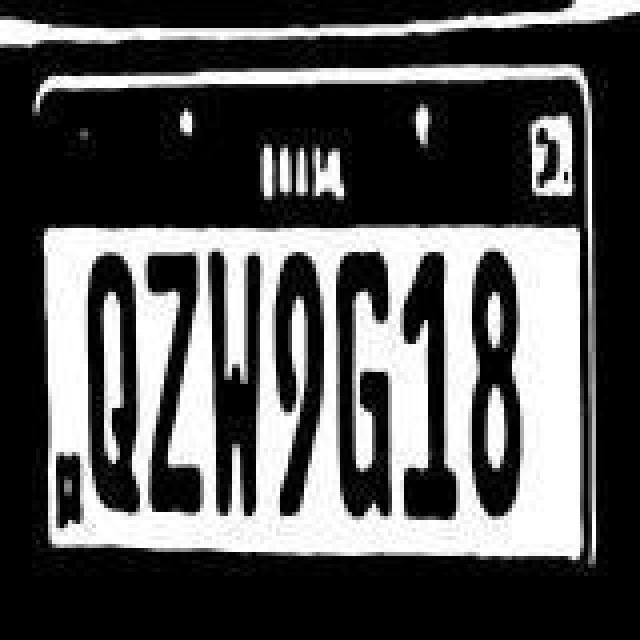1: (396, 240, 460, 528)
8: (466, 240, 526, 528)
9: (272, 242, 328, 526)
G: (332, 236, 396, 532)
Q: (82, 246, 142, 522)
W: (206, 242, 266, 526)
Z: (146, 236, 206, 524)
